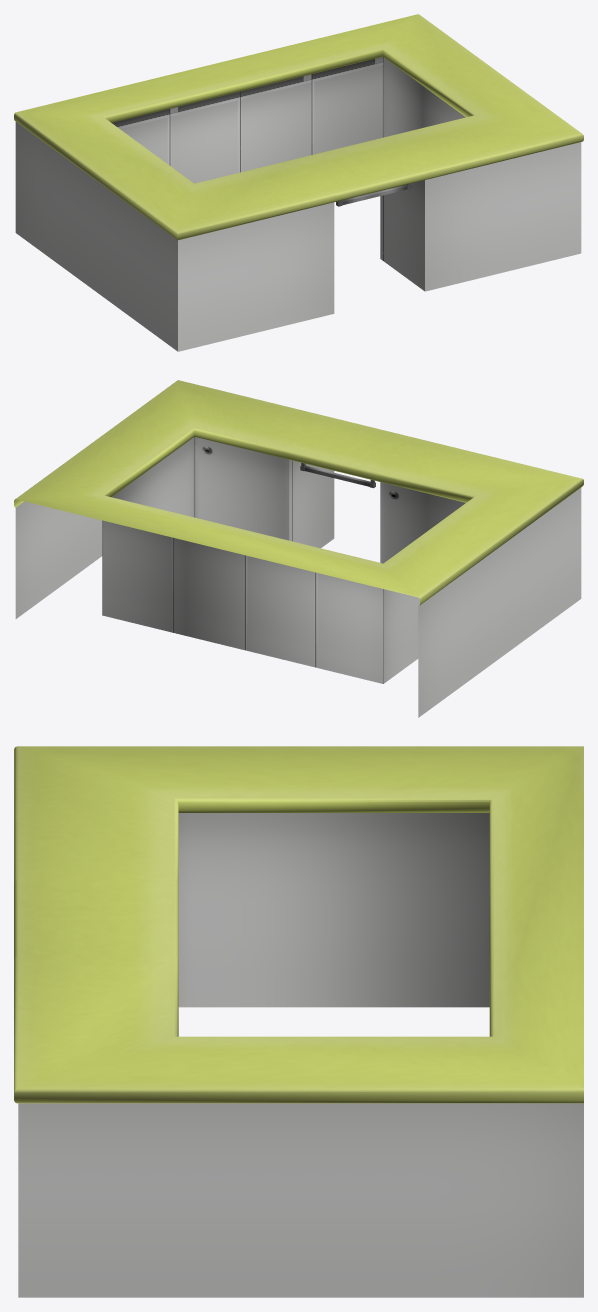
File: counter.FBX
3 views of the same model, one above another, from view 1: azimuth 30°, elevation 25°; view 2: azimuth 150°, elevation 25°; view 3: azimuth 270°, elevation 25° (orthographic). The views are drawn at different scales.
Parts seen in each view (by area): view 1: counter최종; view 2: counter최종; view 3: counter최종.
Boxes of the visible parts, x1=… form: counter최종: x1=14, y1=14, x2=583, y2=351; counter최종: x1=14, y1=380, x2=583, y2=717; counter최종: x1=14, y1=746, x2=583, y2=1297.
Size of the model in its own units: 297 by 84 by 207.
